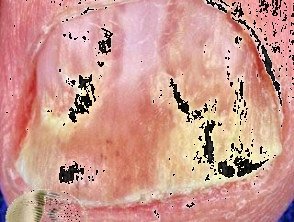Nail_psoriasis: (2, 0, 294, 222)
